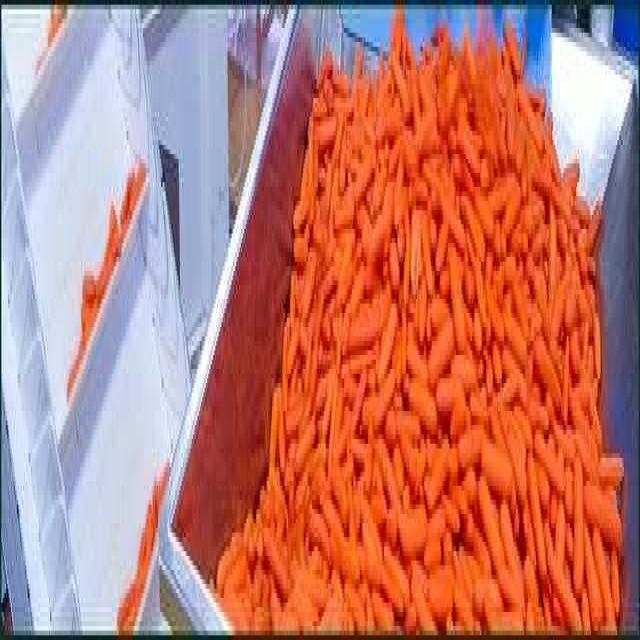carrots: (586, 467, 624, 558), (531, 447, 546, 585), (574, 454, 586, 600), (378, 572, 402, 634), (309, 116, 341, 158), (401, 214, 412, 314), (350, 340, 378, 378), (560, 342, 571, 432), (591, 322, 605, 390)
